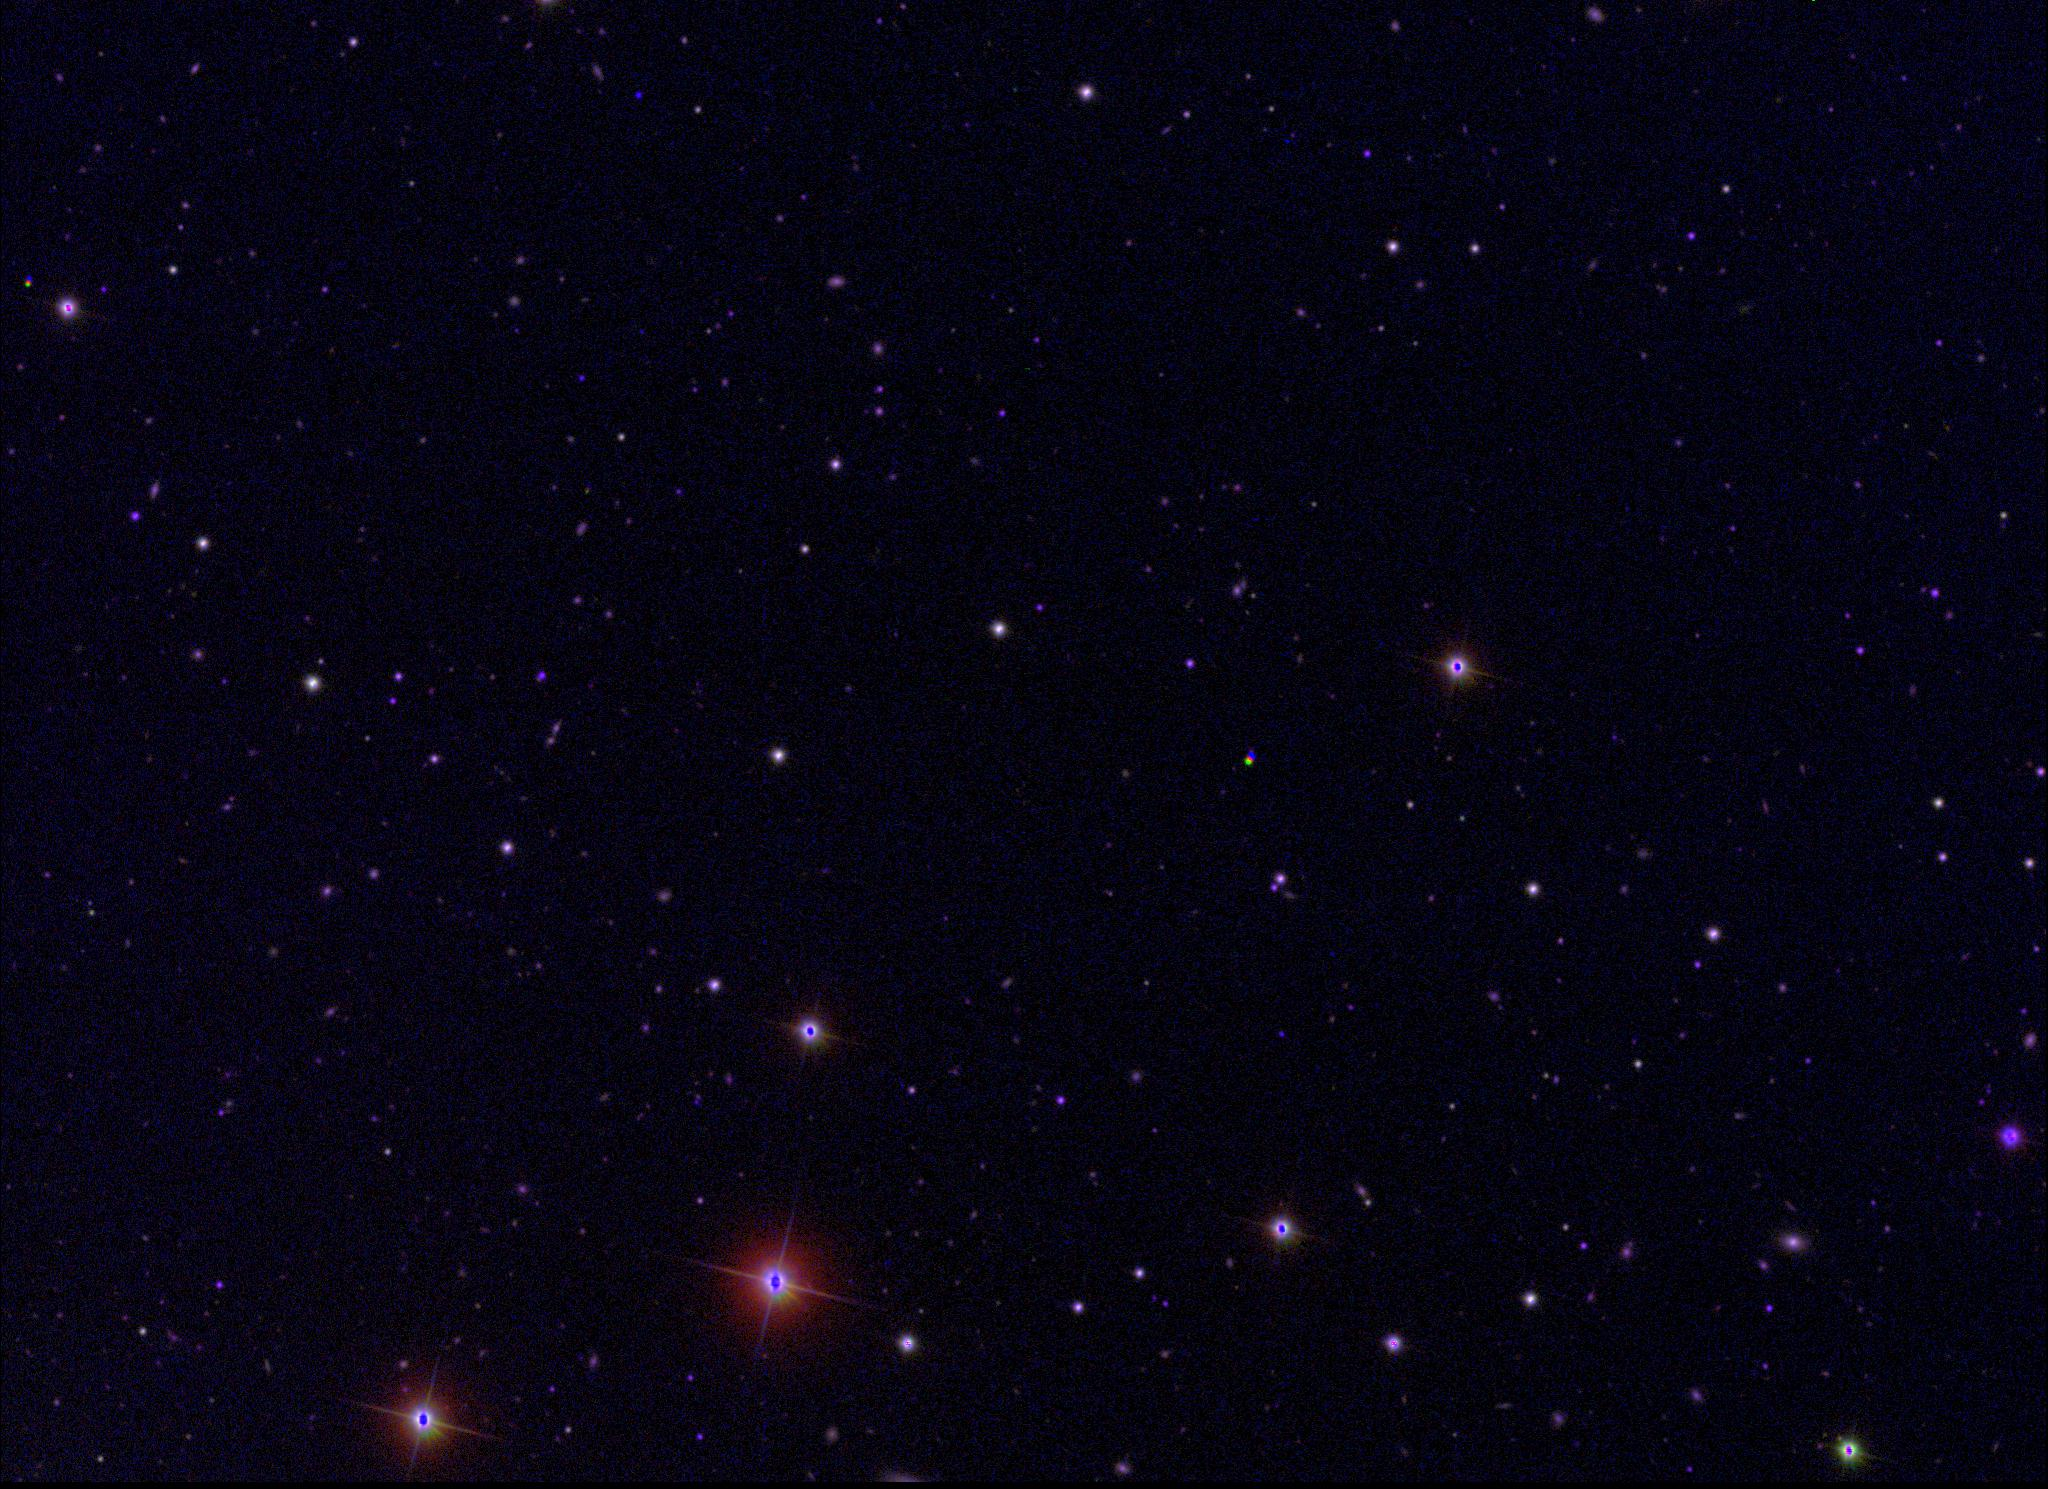L: (631, 87, 646, 102)
